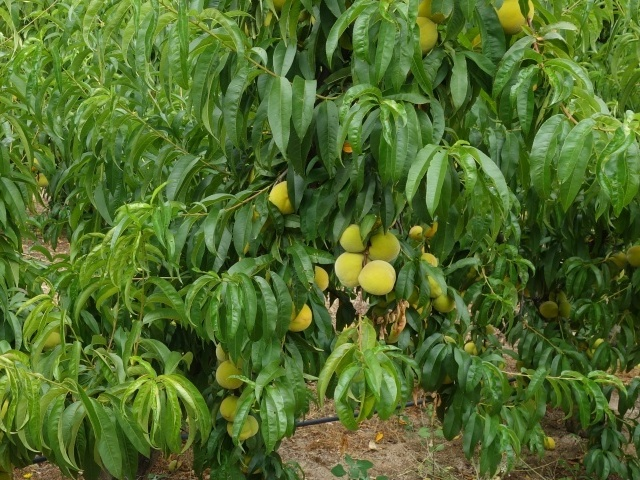peach: (487, 1, 537, 41), (328, 248, 371, 288), (407, 9, 443, 56), (359, 256, 399, 298), (265, 174, 301, 217), (335, 219, 372, 258), (367, 226, 404, 265), (210, 353, 246, 390), (285, 299, 317, 333), (411, 1, 456, 25), (305, 259, 334, 293), (216, 392, 248, 422), (223, 414, 255, 443), (209, 338, 235, 372), (425, 271, 453, 302), (432, 286, 457, 316), (537, 295, 561, 321), (415, 249, 439, 273)
